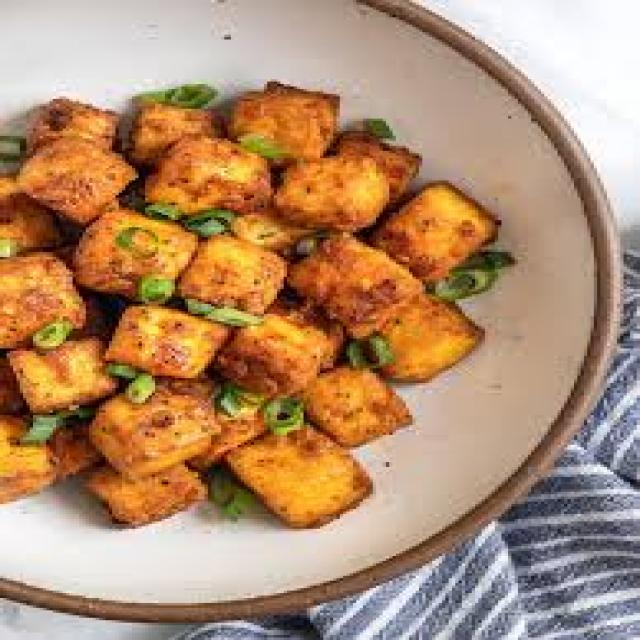tahu: (20, 82, 432, 524)
